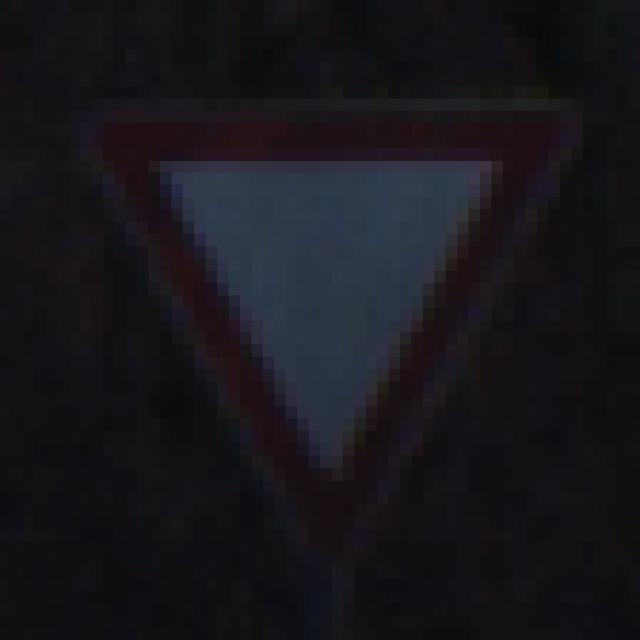Give Way: (58, 63, 584, 580)
